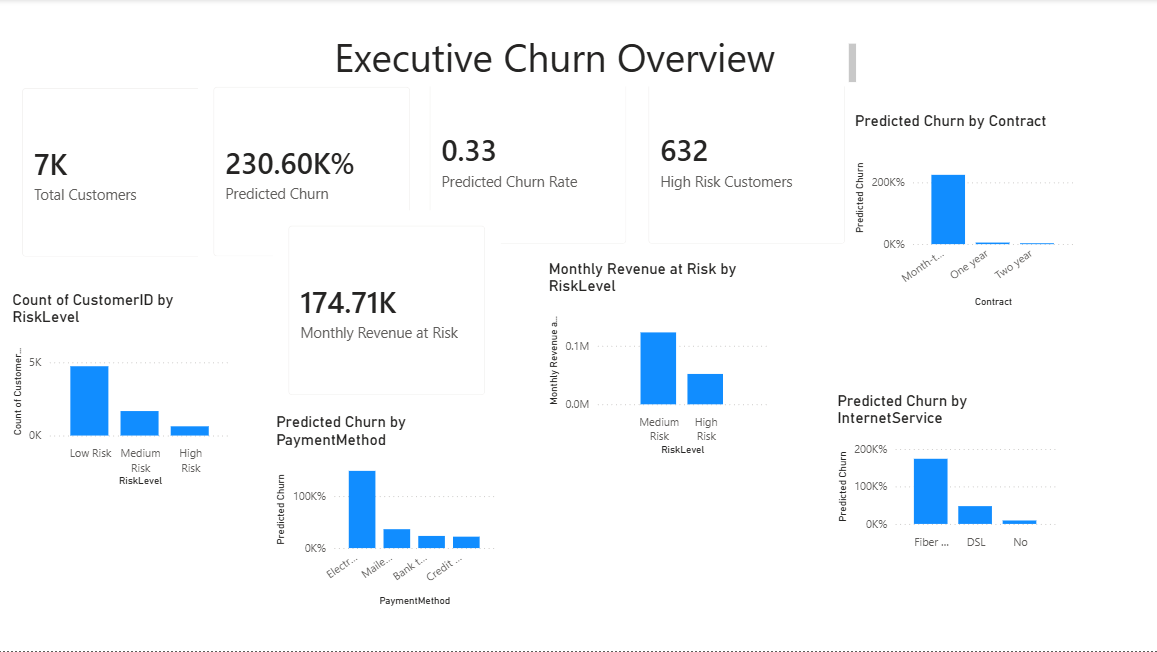

The dashboard page shown, as its layout file describes it:
{"tool":"powerbi","page":{"name":"Executive Churn Overview","canvas":[1280,720],"ordinal":0},"visuals":[{"type":"cardVisual","title":"Total Customers","fields":{"Data":["churn_dashboard_data.Total Customers"]},"box":[9.6,81,251.1,220.9],"z":0},{"type":"cardVisual","fields":{"Data":["churn_dashboard_data.Predicted Churn"]},"box":[220.9,79.6,251,221],"z":1000},{"type":"cardVisual","fields":{"Data":["churn_dashboard_data.Predicted Churn Rate"]},"box":[458.3,65.9,251,221],"z":2000},{"type":"cardVisual","fields":{"Data":["churn_dashboard_data.High Risk Customers"]},"box":[699.8,65.9,251,221],"z":3000},{"type":"cardVisual","fields":{"Data":["churn_dashboard_data.Monthly Revenue at Risk"]},"box":[303.3,233.3,251,221],"z":4000},{"type":"clusteredColumnChart","fields":{"Category":["churn_dashboard_data.RiskLevel"],"Y":["CountNonNull(churn_dashboard_data.CustomerID)"]},"box":[11,321.1,251,221],"z":5000},{"type":"clusteredColumnChart","fields":{"Category":["churn_dashboard_data.RiskLevel"],"Y":["churn_dashboard_data.Monthly Revenue at Risk"]},"box":[602.4,286.8,251,221],"z":6000},{"type":"clusteredColumnChart","fields":{"Category":["churn_dashboard_data.Contract"],"Y":["churn_dashboard_data.Predicted Churn"]},"box":[940,123.5,251,221],"z":7000},{"type":"clusteredColumnChart","fields":{"Category":["churn_dashboard_data.InternetService"],"Y":["churn_dashboard_data.Predicted Churn"]},"box":[920.8,432.2,251,181],"z":8000},{"type":"clusteredColumnChart","fields":{"Category":["churn_dashboard_data.PaymentMethod"],"Y":["churn_dashboard_data.Predicted Churn"]},"box":[301.9,455.6,251,218],"z":9000},{"type":"textbox","box":[365,37,585.9,59],"z":10000}]}

Visuals, with their boxes in screenshot pixels (x1, y1, x2, y2), scaled from the page's 1280x720 canvas onto the 1157x652 screenshot:
"Total Customers" cardVisual: detection(9, 73, 236, 273)
cardVisual - churn_dashboard_data.Predicted Churn: detection(200, 72, 427, 272)
cardVisual - churn_dashboard_data.Predicted Churn Rate: detection(414, 60, 641, 260)
cardVisual - churn_dashboard_data.High Risk Customers: detection(633, 60, 859, 260)
cardVisual - churn_dashboard_data.Monthly Revenue at Risk: detection(274, 211, 501, 411)
clusteredColumnChart - churn_dashboard_data.RiskLevel x CountNonNull(churn_dashboard_data.CustomerID): detection(10, 291, 237, 491)
clusteredColumnChart - churn_dashboard_data.RiskLevel x churn_dashboard_data.Monthly Revenue at Risk: detection(545, 260, 771, 460)
clusteredColumnChart - churn_dashboard_data.Contract x churn_dashboard_data.Predicted Churn: detection(850, 112, 1077, 312)
clusteredColumnChart - churn_dashboard_data.InternetService x churn_dashboard_data.Predicted Churn: detection(832, 391, 1059, 555)
clusteredColumnChart - churn_dashboard_data.PaymentMethod x churn_dashboard_data.Predicted Churn: detection(273, 413, 500, 610)
textbox: detection(330, 34, 860, 87)
